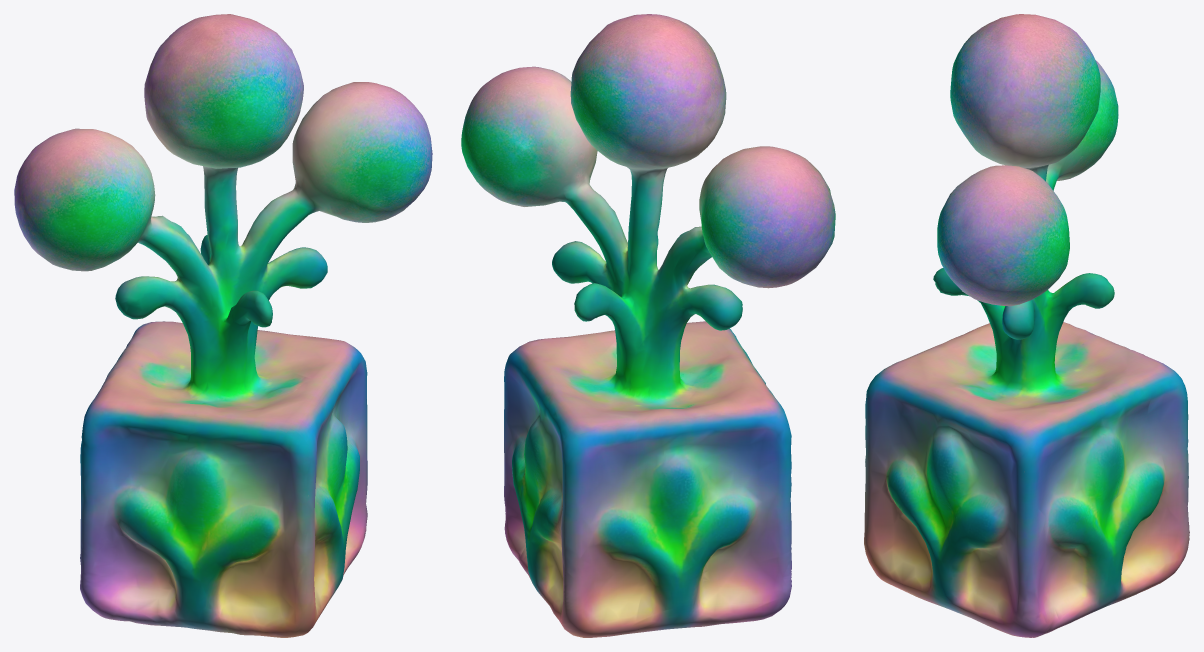
File: chlorophyll.glb
The picture shows the model from 3 angles, left to right: view 1: azimuth 30°, elevation 25°; view 2: azimuth 150°, elevation 25°; view 3: azimuth 270°, elevation 25°; orthographic projection.
Parts seen in each view (by area): view 1: mesh; view 2: mesh; view 3: mesh.
Part boxes in pixels (x1=…): mesh: x1=14, y1=14, x2=432, y2=637; mesh: x1=461, y1=14, x2=835, y2=637; mesh: x1=864, y1=14, x2=1189, y2=637.
Size of the model in its own units: 1.28 by 1.87 by 0.9732.
Materials: 1 (1 with a texture image).
